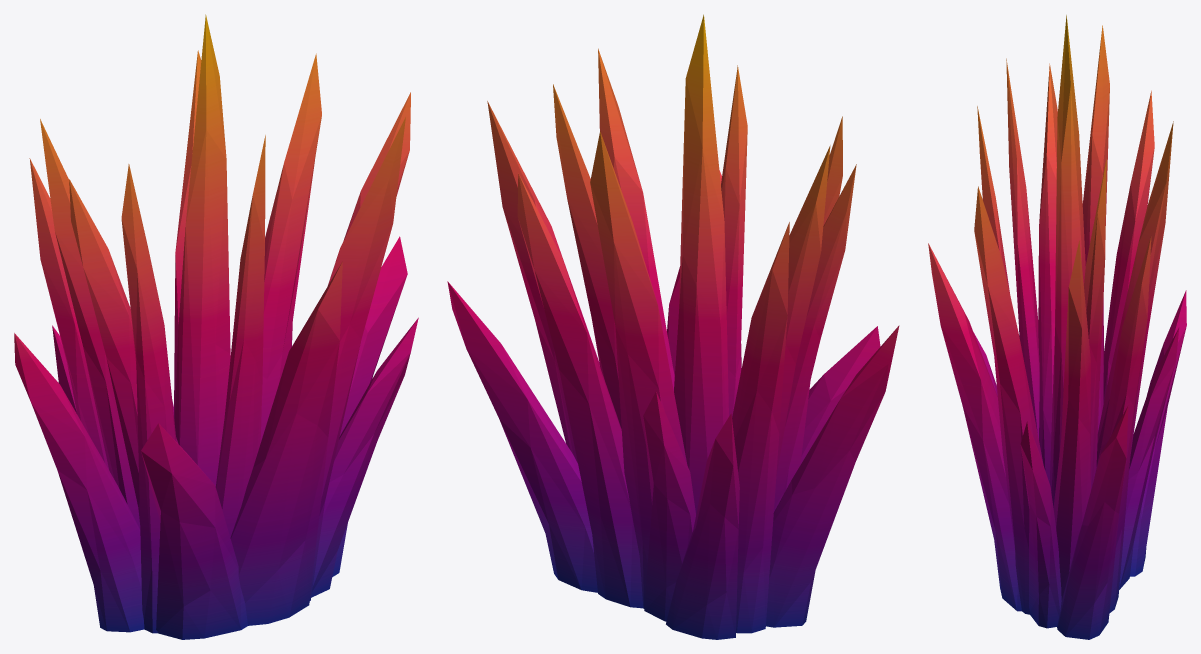
The model's file is cristales11.fbx.
The picture shows the model from 3 angles, left to right: view 1: azimuth 30°, elevation 25°; view 2: azimuth 150°, elevation 25°; view 3: azimuth 270°, elevation 25°; orthographic projection. The views are drawn at different scales.
Visible parts, largest first — view 1: cristal10; view 2: cristal10; view 3: cristal10.
Part boxes in pixels (bbox=[...]): cristal10: bbox=[14, 14, 418, 639]; cristal10: bbox=[447, 14, 899, 639]; cristal10: bbox=[928, 15, 1186, 639].
Bounding box in the file's own units: 1318 × 1760 × 735.
1 material, 1 textured.
